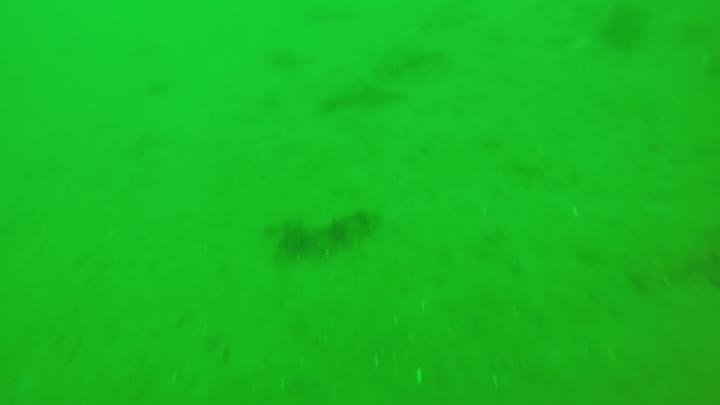holothurian: (269, 213, 385, 256), (629, 243, 720, 294)
